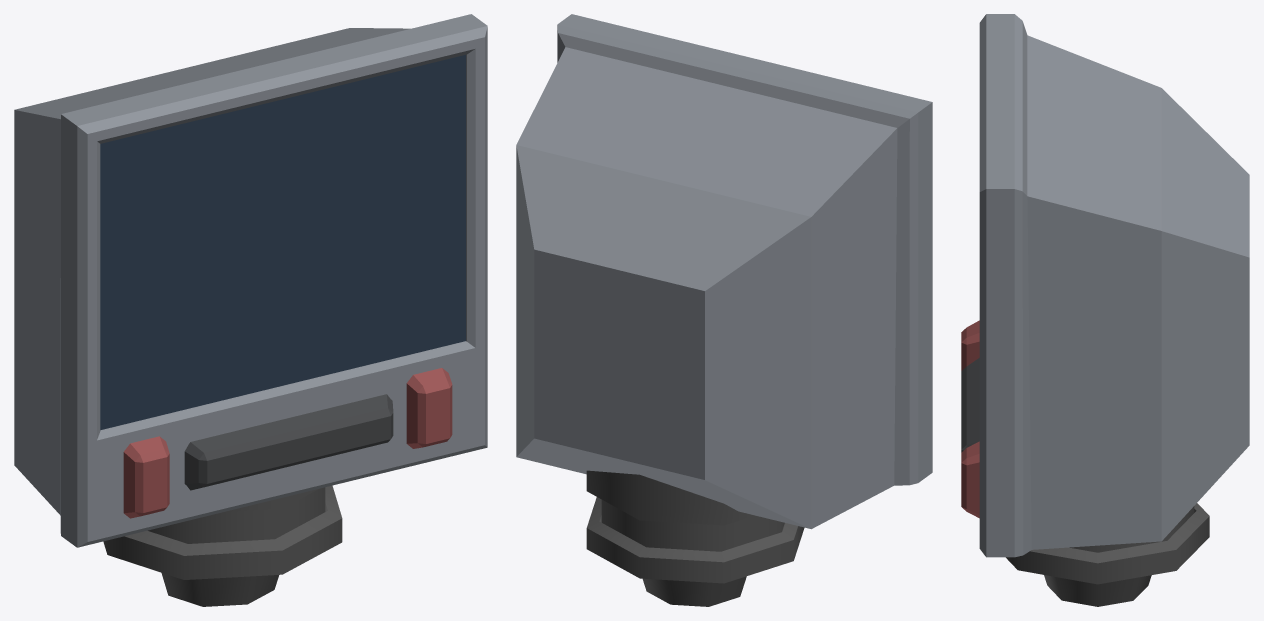
Rendered from SM_MonitorEnemy.fbx.
3 renders of one model, left to right at view 1: azimuth 30°, elevation 25°; view 2: azimuth 150°, elevation 25°; view 3: azimuth 270°, elevation 25°, orthographic. The views are drawn at different scales.
Visible parts, largest first — view 1: polySurface133; view 2: polySurface133; view 3: polySurface133.
Part boxes in pixels (x1,y1,x2,y2): polySurface133: [14, 14, 487, 606]; polySurface133: [516, 14, 932, 606]; polySurface133: [961, 14, 1249, 606].
Bounding box in the file's own units: 1.34 × 0.9335 × 1.73.
